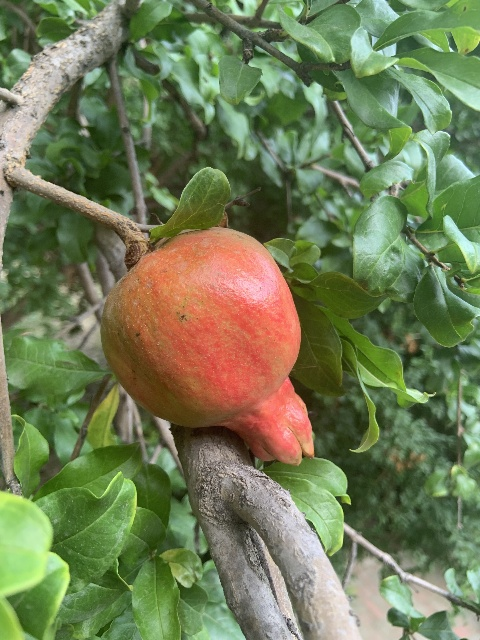ripe: (101, 226, 314, 467)
